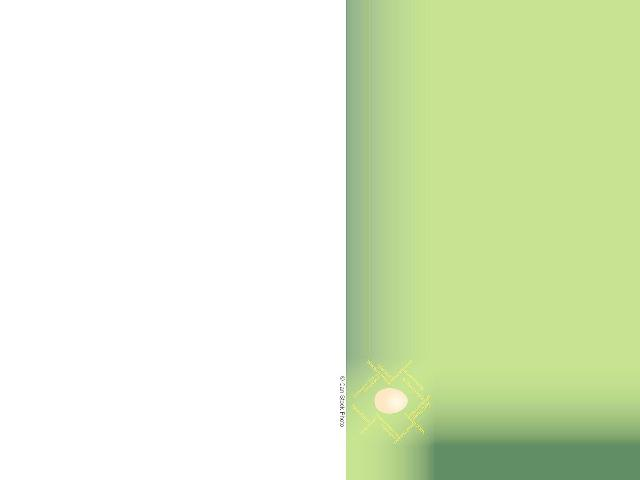egg: (374, 388, 408, 413)
